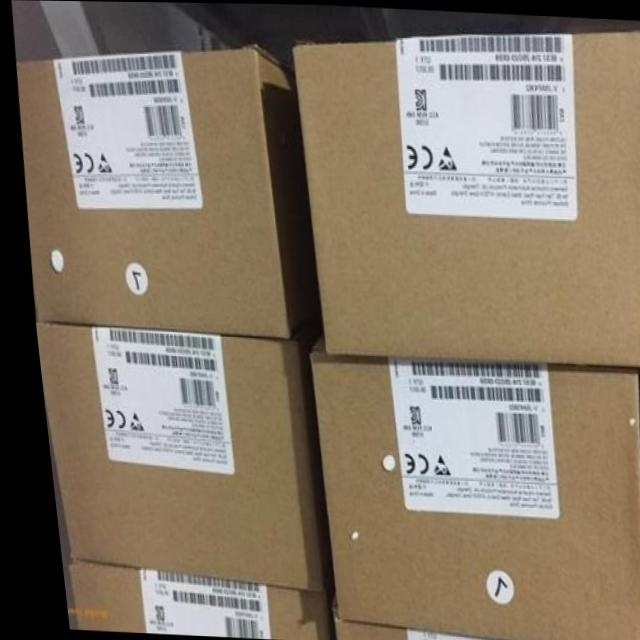box: (290, 33, 640, 367), (302, 332, 633, 640), (15, 45, 315, 339), (29, 312, 321, 590), (57, 565, 321, 639), (322, 618, 505, 640)
